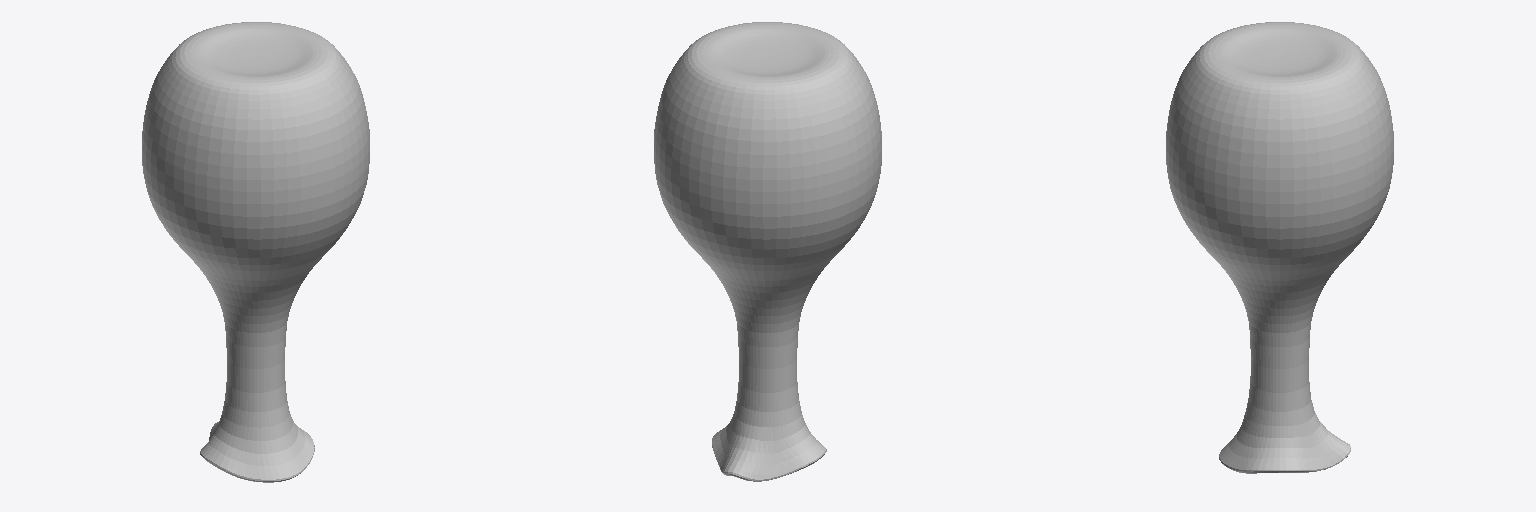
Rendered from smooth_vase.obj.
The picture shows the model from 3 angles: view 1: azimuth 30°, elevation 25°; view 2: azimuth 150°, elevation 25°; view 3: azimuth 270°, elevation 25°; orthographic projection.
Parts seen in each view (by area): view 1: ceramic_vase_01_Cylinder.009; view 2: ceramic_vase_01_Cylinder.009; view 3: ceramic_vase_01_Cylinder.009.
Boxes of the visible parts, <box> form: ceramic_vase_01_Cylinder.009: <box>142,22,369,482</box>; ceramic_vase_01_Cylinder.009: <box>654,22,881,481</box>; ceramic_vase_01_Cylinder.009: <box>1166,22,1393,473</box>.
Size of the model in its own units: 0.2036 by 0.4003 by 0.2036.